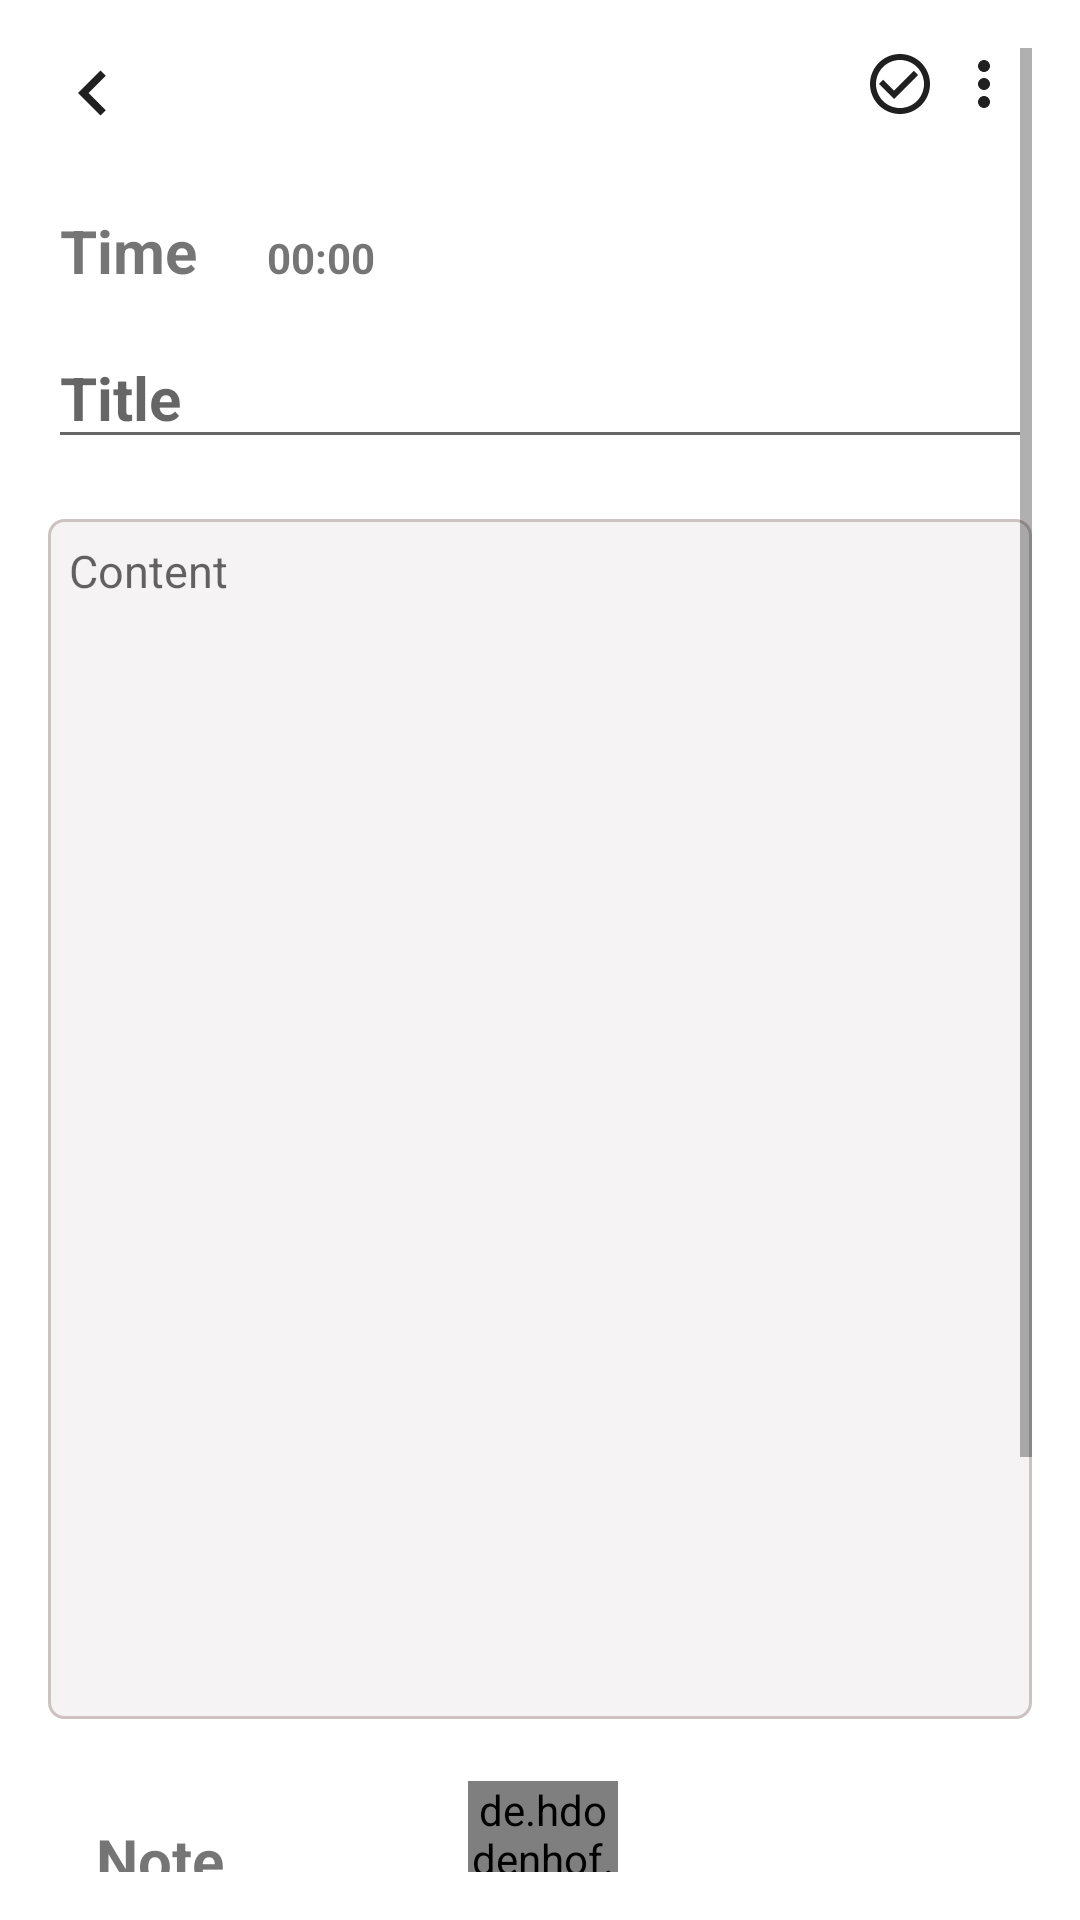

Screen size 1080w x 1920h. Icon name, then its center in pixels as point (x, y):
check circle: point (900, 84)
keyboard arrow left: point (92, 93)
more vert: point (984, 84)
